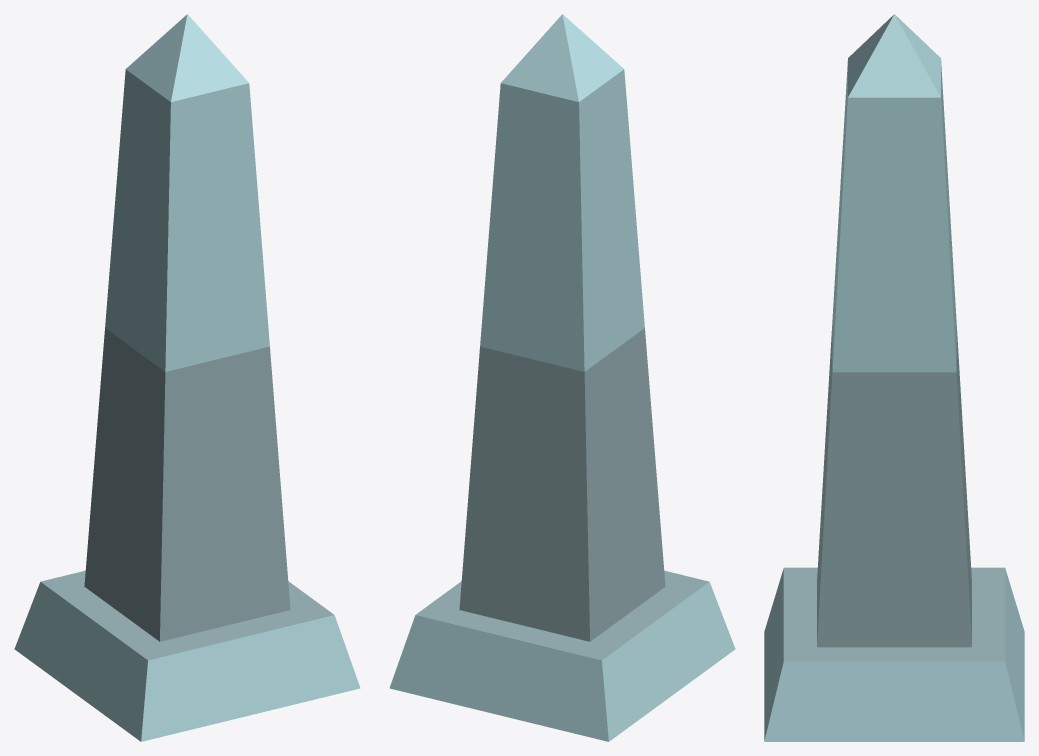
File: statue-obelisk.glb
The picture shows the model from 3 angles, left to right: view 1: azimuth 30°, elevation 25°; view 2: azimuth 150°, elevation 25°; view 3: azimuth 270°, elevation 25°; orthographic projection. The views are drawn at different scales.
Visible parts, largest first — view 1: statue_obelisk; view 2: statue_obelisk; view 3: statue_obelisk.
Boxes of the visible parts, x1,y1,x2,y2 form: statue_obelisk: (14,14,360,741); statue_obelisk: (389,14,735,741); statue_obelisk: (764,14,1024,741).
Bounding box in the file's own units: 0.307 × 0.8754 × 0.307.
